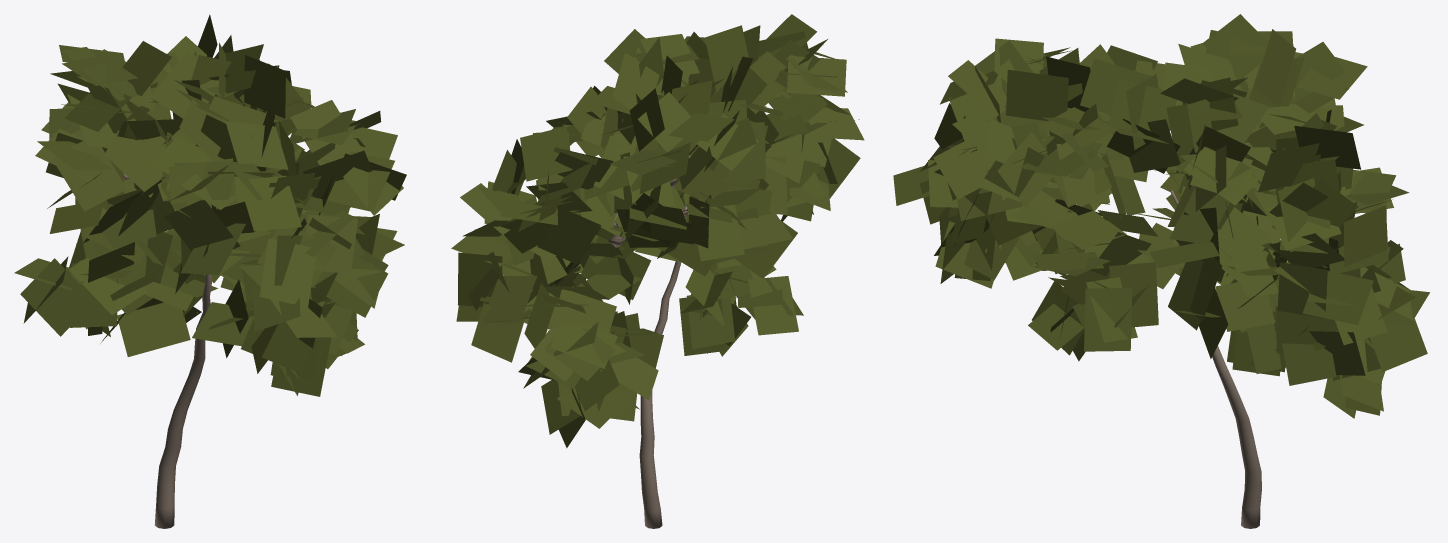
Rendered from tree-open-02.glb.
The picture shows the model from 3 angles, left to right: view 1: azimuth 30°, elevation 25°; view 2: azimuth 150°, elevation 25°; view 3: azimuth 270°, elevation 25°; orthographic projection. The views are drawn at different scales.
Parts seen in each view (by area): view 1: tree-open-02_MATERIAL_BATCH; view 2: tree-open-02_MATERIAL_BATCH; view 3: tree-open-02_MATERIAL_BATCH.
Part boxes in pixels (box(x1,y1,x2,y2)): tree-open-02_MATERIAL_BATCH: box(14, 14, 406, 528); tree-open-02_MATERIAL_BATCH: box(451, 14, 864, 528); tree-open-02_MATERIAL_BATCH: box(893, 14, 1429, 528).
Bounding box in the file's own units: 5.65 × 8 × 8.
3 materials, 3 textured.
